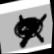not correct: (11, 8, 53, 52)
